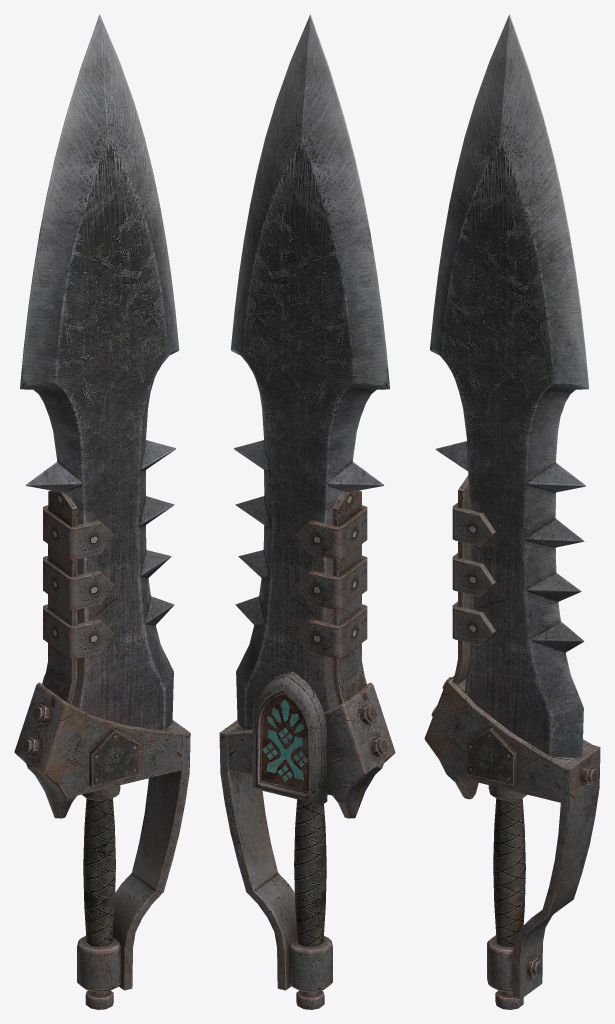
File: bs_sou010.obj
3 views of the same model, side by side, from view 1: azimuth 30°, elevation 25°; view 2: azimuth 150°, elevation 25°; view 3: azimuth 330°, elevation 25° (orthographic).
Parts seen in each view (by area): view 1: bs_sou010_000_LOD_1, bs_sou010_001_LOD_1; view 2: bs_sou010_000_LOD_1, bs_sou010_001_LOD_1; view 3: bs_sou010_000_LOD_1, bs_sou010_001_LOD_1.
Boxes of the visible parts, x1,y1,x2,y2 form: bs_sou010_000_LOD_1: (20, 14, 179, 730); bs_sou010_001_LOD_1: (14, 490, 190, 1009); bs_sou010_000_LOD_1: (231, 14, 389, 730); bs_sou010_001_LOD_1: (219, 490, 395, 1009); bs_sou010_000_LOD_1: (430, 14, 588, 758); bs_sou010_001_LOD_1: (424, 475, 600, 1009).
Bounding box in the file's own units: 20.2 × 116 × 9.83.
